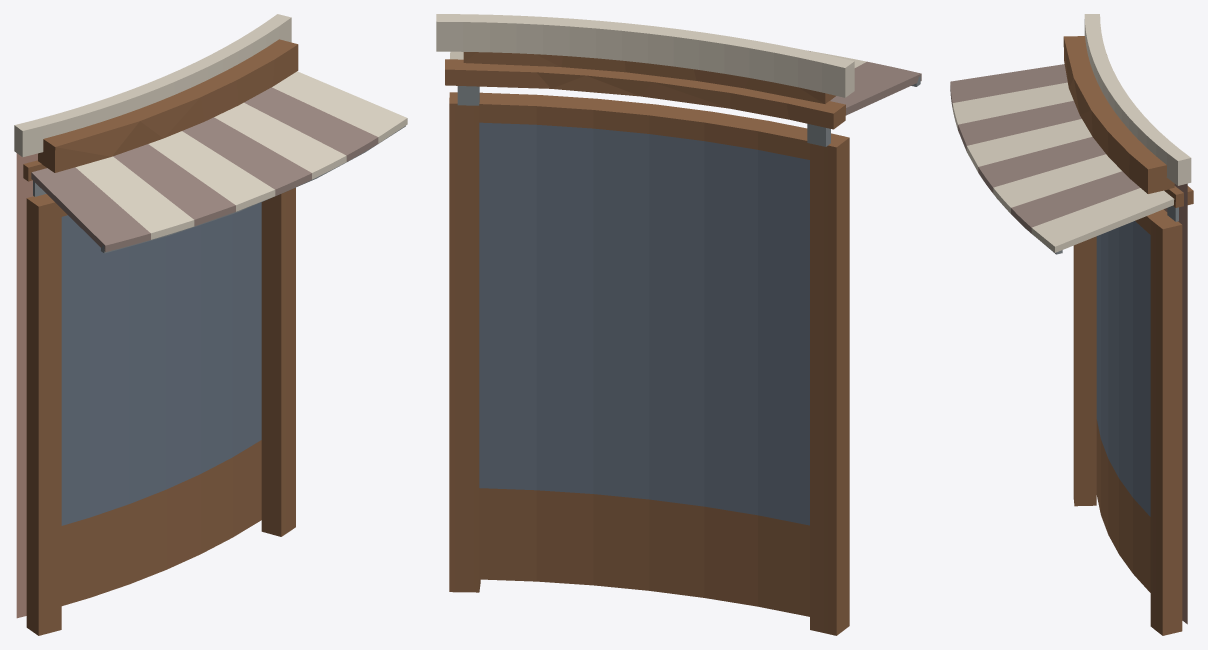
The model's file is ArcShopfront_R4_A30.glb.
3 views of the same model, side by side, from view 1: azimuth 30°, elevation 25°; view 2: azimuth 150°, elevation 25°; view 3: azimuth 270°, elevation 25° (orthographic). The views are drawn at different scales.
Parts seen in each view (by area): view 1: PBK_Arc_PBK_glass.002, PBK_Continuous_Frame_Brick_Shopfront.003, PBK_Arc_PBK_glass.009_Frame_Base20.001, PBK_Arc_PBK_signboard.006, PBK_floor_band.048, PBK_Brick_ArcShopfront_R4_A30_Exterior_Surface.001, PBK_Arc_PBK_awning_stripe.006, PBK_Arc_PBK_awning_stripe.007, PBK_Arc_PBK_awning_stripe.011, PBK_Arc_PBK_awning_stripe.012, PBK_Arc_PBK_awning_stripe.013, PBK_Arc_PBK_awning_stripe.014 (+2 smaller); view 2: PBK_Arc_PBK_glass.002, PBK_Continuous_Frame_Brick_Shopfront.003, PBK_Arc_PBK_glass.009_Frame_Base20.001, PBK_floor_band.048, PBK_Arc_PBK_awning_wall_mount.001, PBK_Arc_PBK_signboard.006, PBK_Arc_PBK_awning_stripe.006; view 3: PBK_Continuous_Frame_Brick_Shopfront.003, PBK_Arc_PBK_glass.002, PBK_Arc_PBK_signboard.006, PBK_Arc_PBK_glass.009_Frame_Base20.001, PBK_floor_band.048, PBK_Arc_PBK_awning_stripe.022, PBK_Arc_PBK_awning_stripe.015, PBK_Arc_PBK_awning_stripe.014, PBK_Arc_PBK_awning_stripe.013, PBK_Arc_PBK_awning_stripe.012, PBK_Brick_ArcShopfront_R4_A30_Exterior_Surface.001, PBK_Arc_PBK_awning_stripe.011 (+3 smaller).
Boxes of the visible parts, x1=… form: PBK_Arc_PBK_glass.002: x1=61, y1=202, x2=261, y2=525; PBK_Continuous_Frame_Brick_Shopfront.003: x1=26, y1=187, x2=295, y2=635; PBK_Arc_PBK_glass.009_Frame_Base20.001: x1=61, y1=440, x2=261, y2=605; PBK_Arc_PBK_signboard.006: x1=38, y1=39, x2=298, y2=172; PBK_floor_band.048: x1=14, y1=14, x2=291, y2=157; PBK_Brick_ArcShopfront_R4_A30_Exterior_Surface.001: x1=16, y1=153, x2=37, y2=618; PBK_Arc_PBK_awning_stripe.006: x1=31, y1=167, x2=150, y2=251; PBK_Arc_PBK_awning_stripe.007: x1=75, y1=156, x2=194, y2=239; PBK_Arc_PBK_awning_stripe.011: x1=113, y1=144, x2=235, y2=226; PBK_Arc_PBK_awning_stripe.012: x1=148, y1=131, x2=275, y2=211; PBK_Arc_PBK_awning_stripe.013: x1=182, y1=117, x2=311, y2=195; PBK_Arc_PBK_awning_stripe.014: x1=214, y1=102, x2=346, y2=179; PBK_Arc_PBK_glass.002: x1=479, y1=122, x2=809, y2=525; PBK_Continuous_Frame_Brick_Shopfront.003: x1=449, y1=92, x2=849, y2=635; PBK_Arc_PBK_glass.009_Frame_Base20.001: x1=479, y1=488, x2=809, y2=616; PBK_floor_band.048: x1=436, y1=14, x2=854, y2=97; PBK_Arc_PBK_awning_wall_mount.001: x1=445, y1=59, x2=845, y2=129; PBK_Arc_PBK_signboard.006: x1=463, y1=52, x2=835, y2=103; PBK_Arc_PBK_awning_stripe.006: x1=830, y1=61, x2=921, y2=115; PBK_Continuous_Frame_Brick_Shopfront.003: x1=1073, y1=209, x2=1182, y2=635; PBK_Arc_PBK_glass.002: x1=1096, y1=221, x2=1150, y2=516; PBK_Arc_PBK_signboard.006: x1=1063, y1=36, x2=1174, y2=193; PBK_Arc_PBK_glass.009_Frame_Base20.001: x1=1096, y1=419, x2=1150, y2=592; PBK_floor_band.048: x1=1084, y1=14, x2=1191, y2=185; PBK_Arc_PBK_awning_stripe.022: x1=1031, y1=188, x2=1174, y2=252; PBK_Arc_PBK_awning_stripe.015: x1=1011, y1=171, x2=1139, y2=233; PBK_Arc_PBK_awning_stripe.014: x1=993, y1=154, x2=1121, y2=213; PBK_Arc_PBK_awning_stripe.013: x1=978, y1=136, x2=1105, y2=193; PBK_Arc_PBK_awning_stripe.012: x1=966, y1=119, x2=1092, y2=172; PBK_Brick_ArcShopfront_R4_A30_Exterior_Surface.001: x1=1164, y1=183, x2=1187, y2=624; PBK_Arc_PBK_awning_stripe.011: x1=958, y1=100, x2=1081, y2=150.
Bounding box in the file's own units: 2.36 × 3.07 × 1.42.
